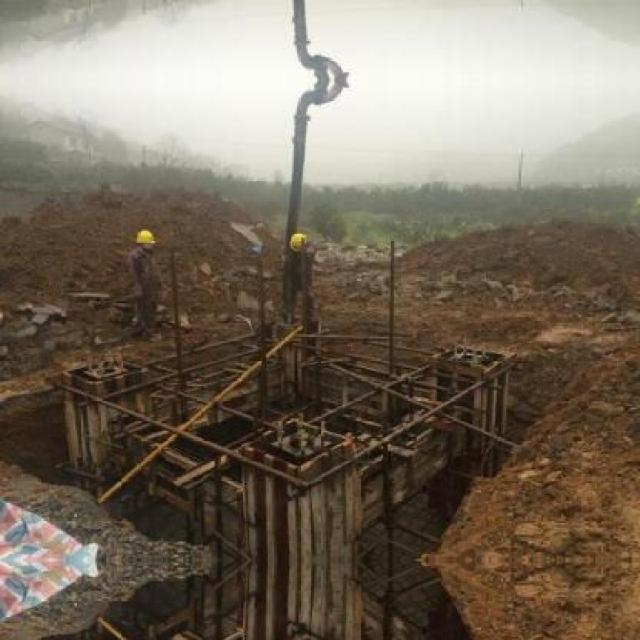helmet: (131, 225, 160, 249), (288, 228, 308, 250)
